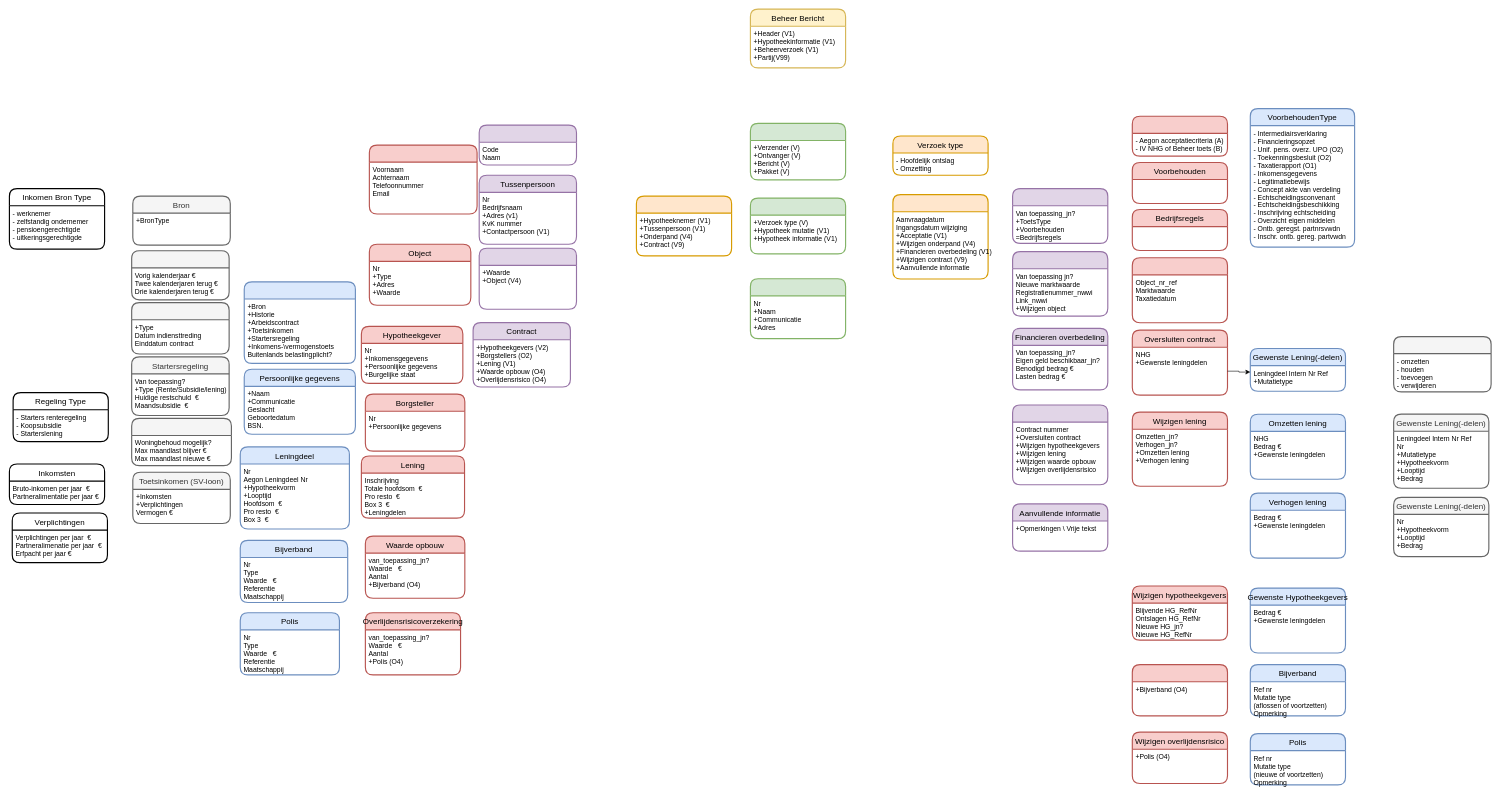
Image size: 1500x796. Some labels were removed from this diagram. The box of each missing label's shape, as (x1, y1, x2, y2) in pixels:
Acceptatie: (1012, 188, 1108, 244)
Arbeidscontract: (131, 302, 229, 354)
Beheer verzoek: (750, 197, 846, 254)
Contactpersoon: (369, 144, 477, 214)
Header: (750, 123, 846, 180)
Hypotheek informatie: (636, 195, 732, 256)
Hypotheek mutatie: (892, 194, 988, 279)
Hypotheeknemer: (478, 124, 577, 165)
Inkomen Historie: (131, 250, 229, 300)
Inkomens-\Vermogentoets: (131, 418, 232, 466)
Inkomensgegevens: (243, 281, 356, 364)
Leningdeel Mutatie Type: (1393, 336, 1491, 392)
Onderpand: (478, 247, 577, 310)
Partij: (750, 278, 846, 339)
Toets type: (1131, 115, 1228, 156)
Wijzigen contract: (1012, 404, 1108, 485)
Wijzigen object: (1131, 257, 1228, 323)
Wijzigen onderpand: (1012, 251, 1108, 316)
Wijzigen waarde opbouw: (1131, 664, 1228, 716)
